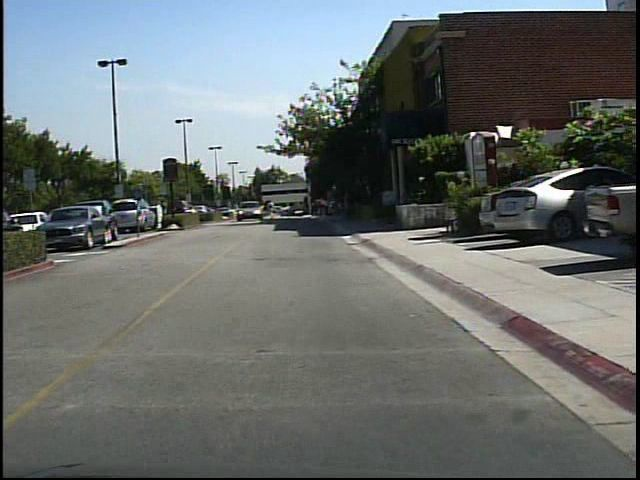person: (155, 194, 171, 230), (266, 195, 278, 221)
